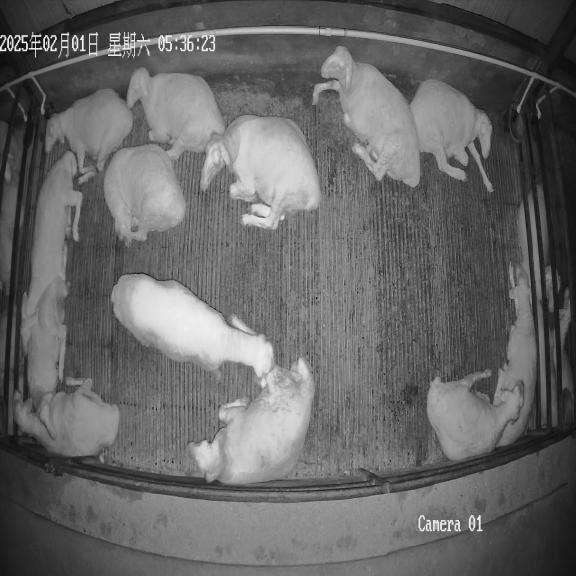lying: (188, 358, 314, 484), (313, 46, 420, 187), (200, 115, 321, 229), (21, 151, 82, 352), (410, 80, 493, 192), (126, 68, 226, 160), (427, 369, 523, 460), (103, 144, 186, 245), (14, 378, 120, 457), (45, 89, 133, 182), (494, 267, 536, 444), (25, 278, 67, 405)
stand: (111, 274, 273, 379)
